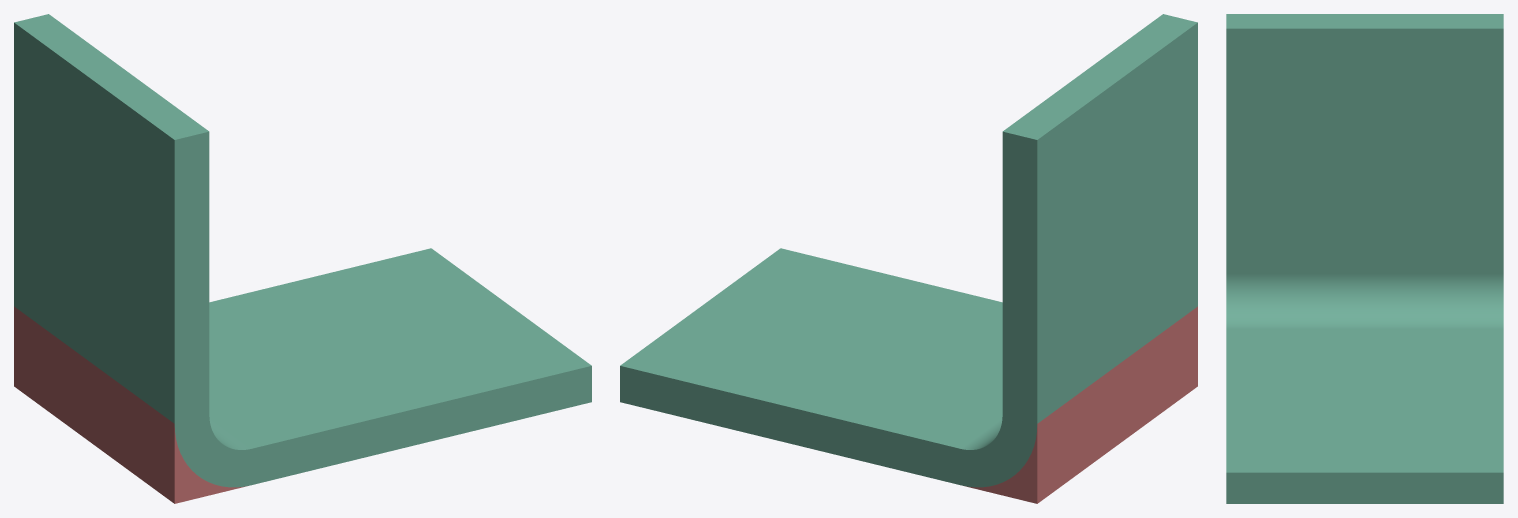
The model's file is step_04.glb.
The picture shows the model from 3 angles, left to right: view 1: azimuth 30°, elevation 25°; view 2: azimuth 150°, elevation 25°; view 3: azimuth 270°, elevation 25°; orthographic projection. The views are drawn at different scales.
Parts seen in each view (by area): view 1: part__L bracket, removed__L bracket; view 2: part__L bracket, removed__L bracket; view 3: part__L bracket.
Part boxes in pixels (x1,y1,x2,y2): part__L bracket: (14, 14, 591, 487); removed__L bracket: (14, 306, 247, 503); part__L bracket: (620, 14, 1197, 487); removed__L bracket: (964, 306, 1197, 503); part__L bracket: (1226, 14, 1503, 503).
Size of the model in its own units: 60 by 50 by 40.
